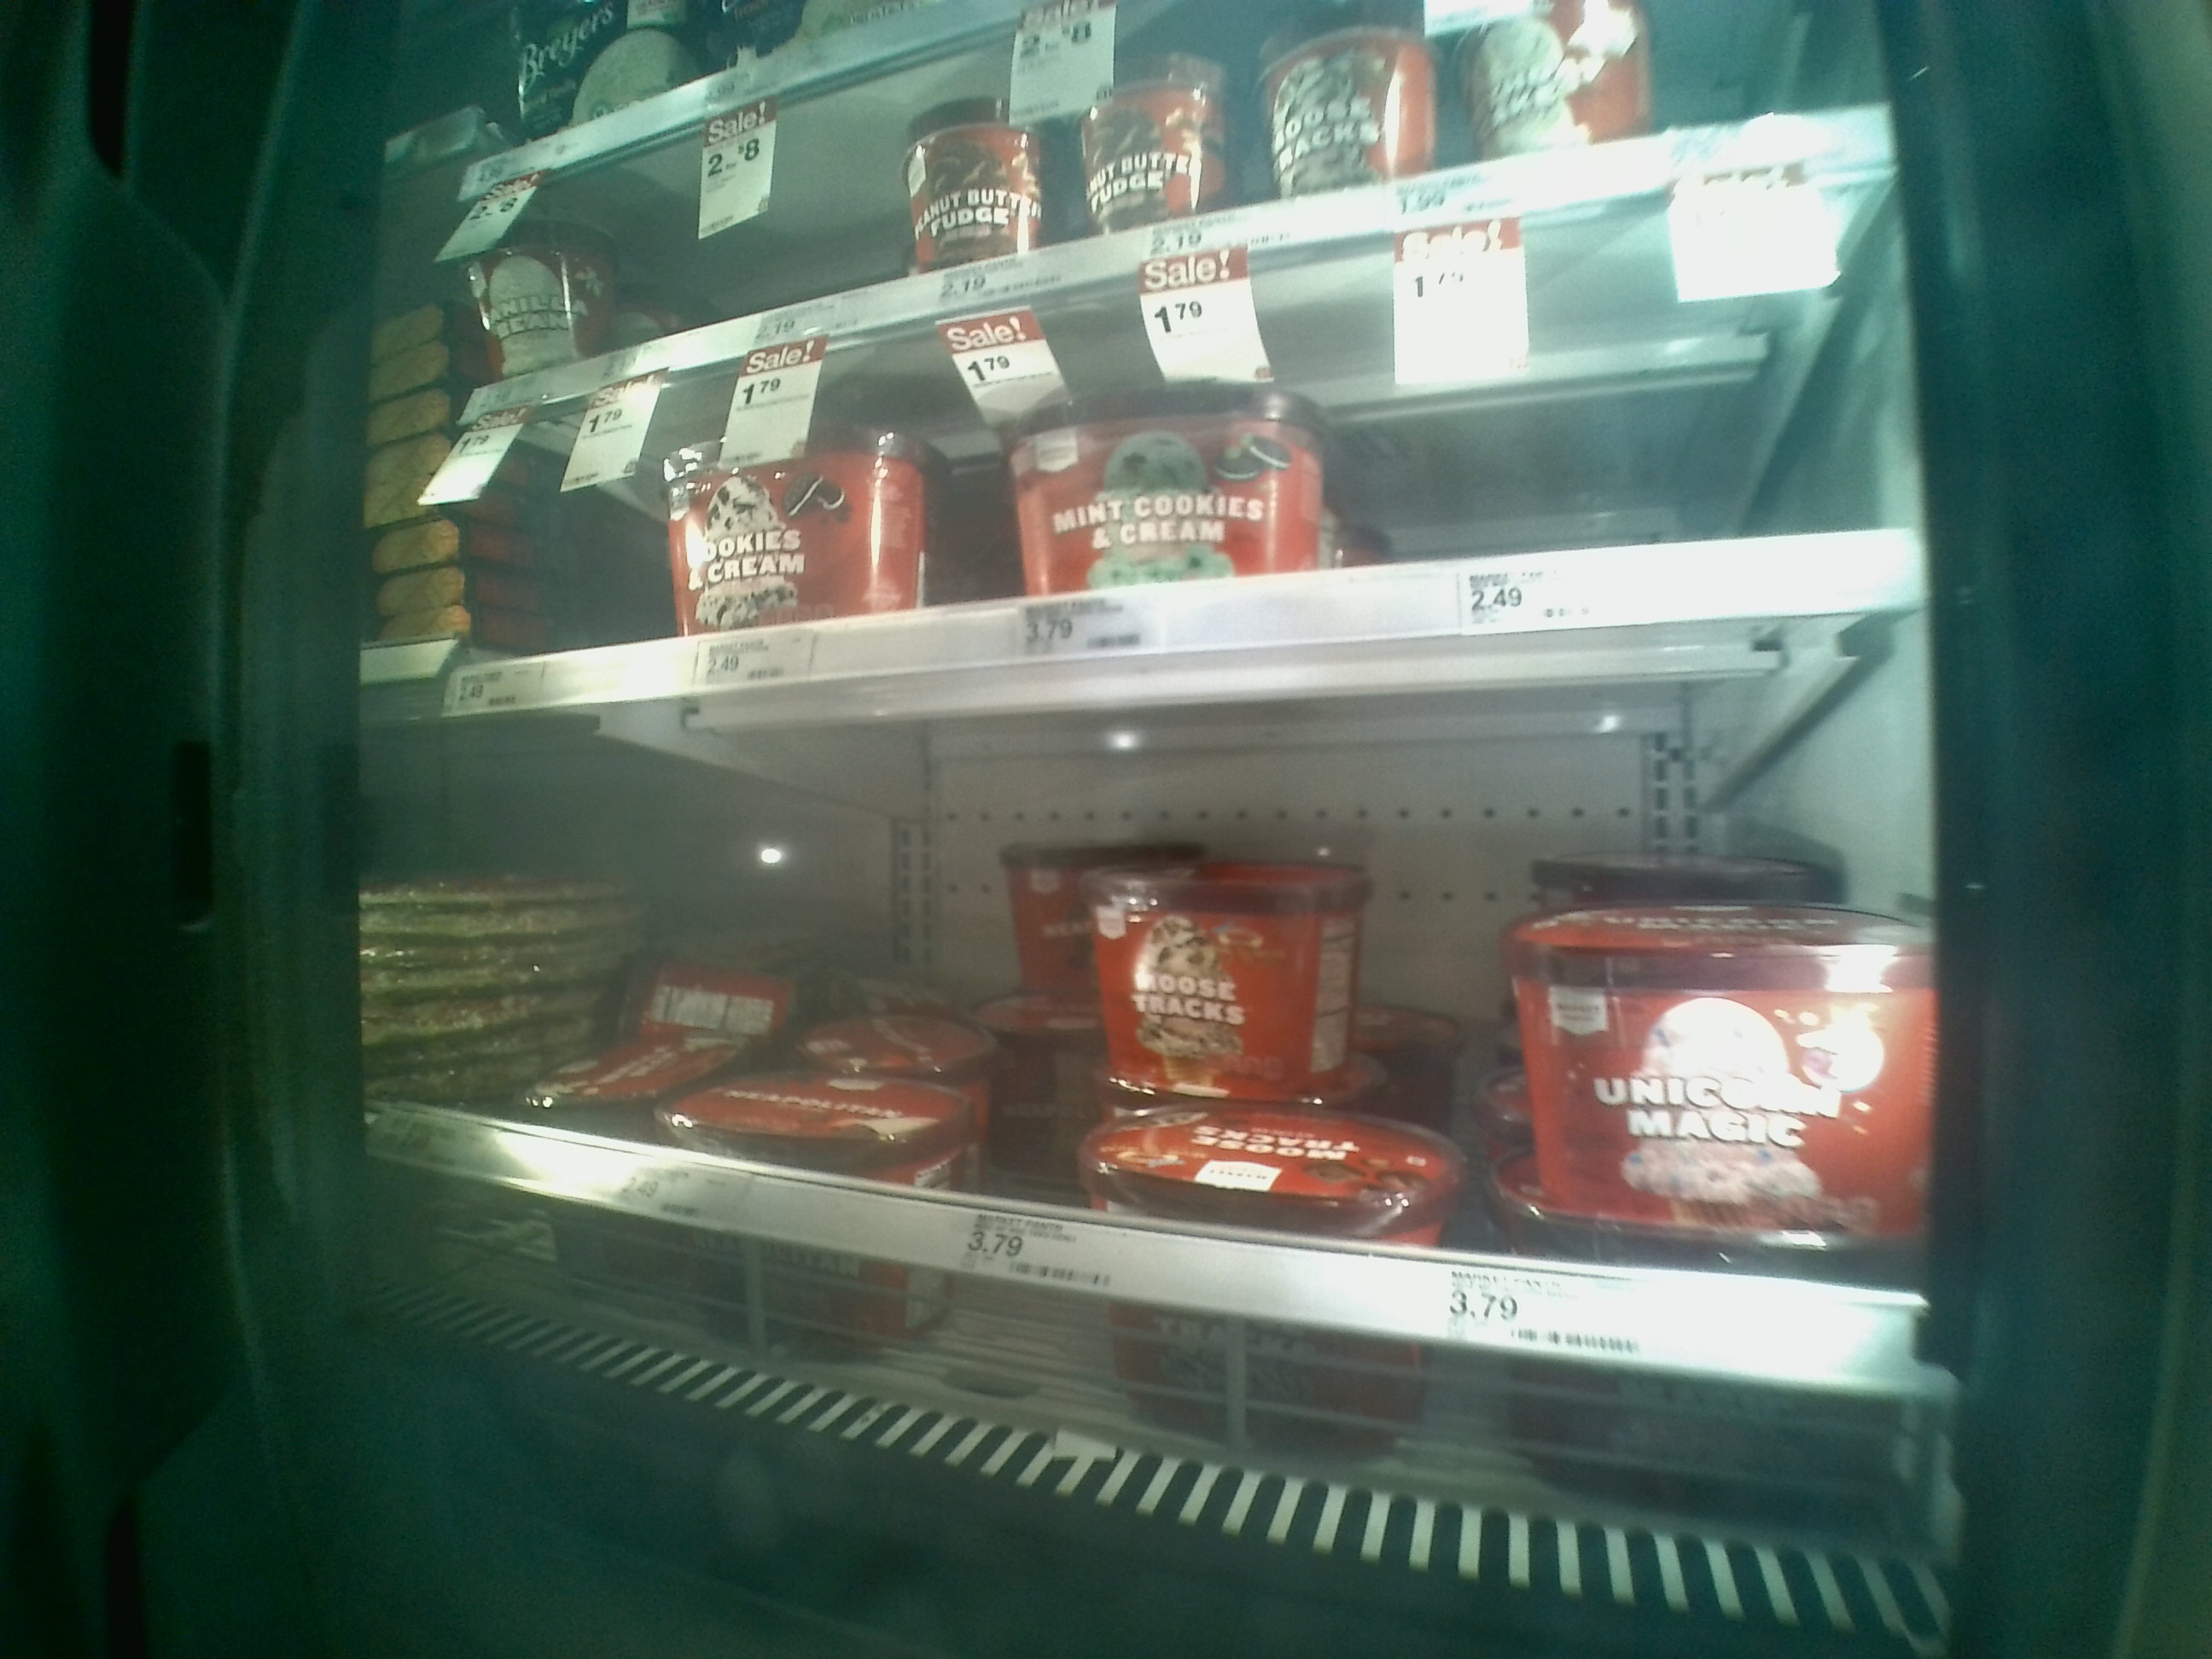shelf: (449, 608, 1930, 1450), (446, 164, 1925, 716)
